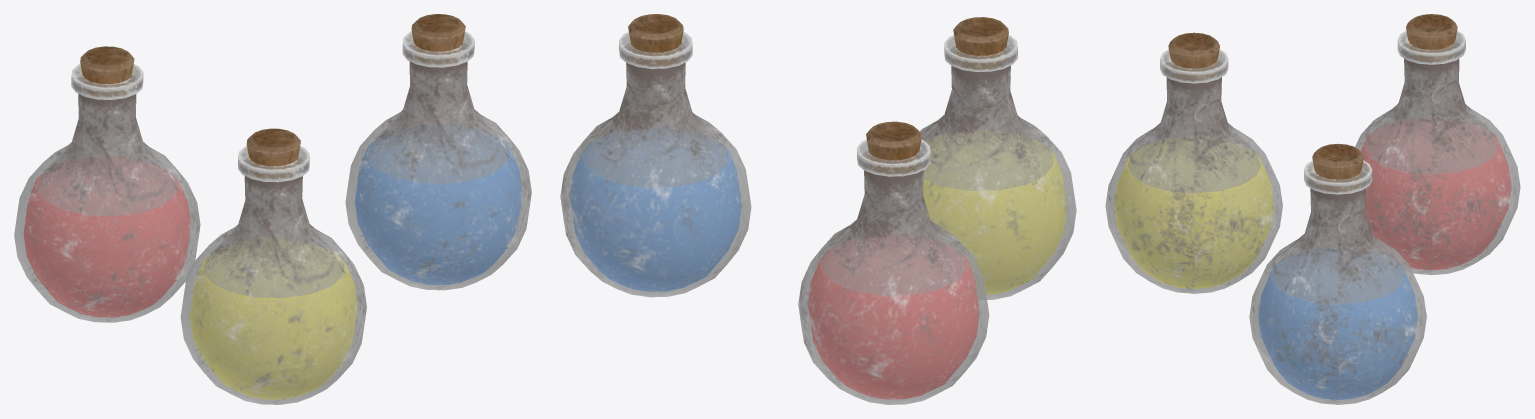
The model's file is potions.glb.
The picture shows the model from 3 angles, left to right: view 1: azimuth 30°, elevation 25°; view 2: azimuth 150°, elevation 25°; view 3: azimuth 270°, elevation 25°; orthographic projection. The views are drawn at different scales.
Parts seen in each view (by area): view 1: bottle_v1_low.001_bottle_v1_txtr_0, fluid_v1_low.002_fluid_2_0, fluid_v1_low.003_fluid_3_0; view 2: bottle_v1_low.001_bottle_v1_txtr_0, fluid_v1_low.003_fluid_3_0, fluid_v1_low.002_fluid_2_0; view 3: bottle_v1_low.001_bottle_v1_txtr_0, fluid_v1_low.003_fluid_3_0, fluid_v1_low.002_fluid_2_0.
Boxes of the visible parts, x1,y1,x2,y2 form: bottle_v1_low.001_bottle_v1_txtr_0: [14, 14, 531, 404]; fluid_v1_low.002_fluid_2_0: [23, 163, 190, 317]; fluid_v1_low.003_fluid_3_0: [355, 131, 521, 284]; bottle_v1_low.001_bottle_v1_txtr_0: [560, 14, 1076, 404]; fluid_v1_low.003_fluid_3_0: [570, 133, 741, 291]; fluid_v1_low.002_fluid_2_0: [808, 241, 979, 399]; bottle_v1_low.001_bottle_v1_txtr_0: [1105, 14, 1520, 404]; fluid_v1_low.003_fluid_3_0: [1258, 253, 1417, 399]; fluid_v1_low.002_fluid_2_0: [1361, 123, 1511, 269].
Bounding box in the file's own units: 5.46 × 2.9 × 4.68.
Materials: 3 (3 with a texture image).
